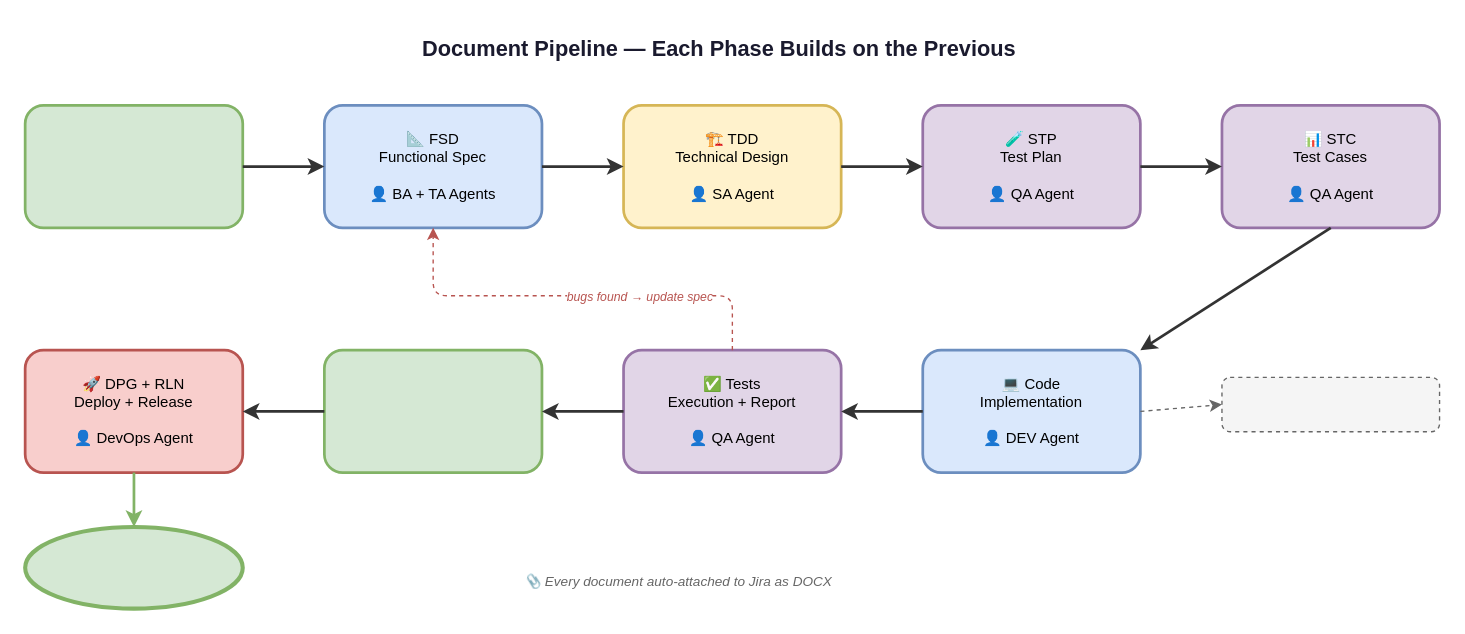
This 1465x634 diagram has some shape labels left out. The shapes that lost their labels are listed below. From the top down, each one's centre as x and y in pixels, then its label:
the point at 133,165: 📋 BRD Business Requirements 👤 BA Agent
the point at 432,410: 📖 User Guide Documentation 👤 DEV + BA
the point at 1330,404: 🔒 Security Review (parallel)
the point at 133,567: 🎉 DONE
